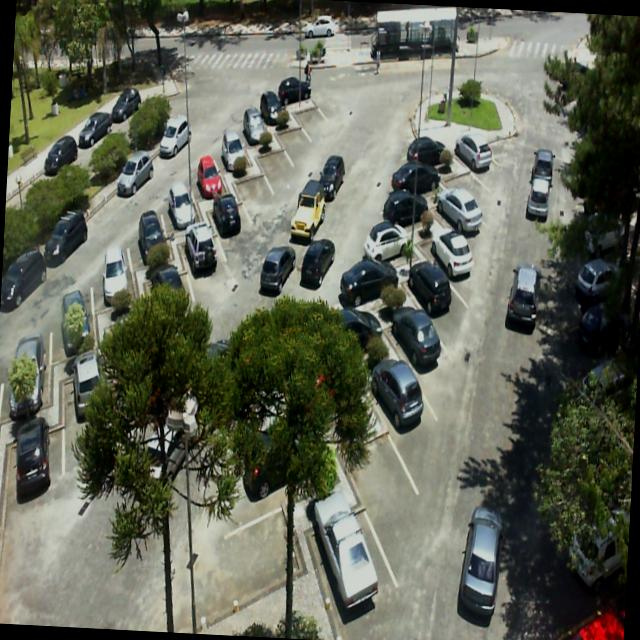bus: (368, 2, 461, 64)
car: (308, 489, 384, 610), (240, 390, 301, 504), (566, 506, 630, 594), (458, 504, 503, 620), (134, 422, 189, 504), (368, 356, 426, 431), (13, 415, 54, 504), (8, 334, 48, 422), (389, 305, 444, 368), (339, 257, 399, 310), (0, 246, 47, 312), (406, 258, 454, 316), (576, 300, 623, 356), (44, 208, 88, 264), (428, 228, 474, 281), (58, 287, 92, 358), (70, 349, 102, 424), (574, 256, 620, 308), (506, 262, 541, 330), (290, 178, 327, 240), (436, 187, 484, 234), (580, 357, 626, 406), (148, 264, 191, 316), (362, 218, 410, 264), (182, 220, 218, 276), (338, 308, 383, 352), (566, 606, 624, 640), (582, 212, 624, 258), (259, 244, 296, 296), (100, 244, 130, 308), (116, 148, 154, 198), (382, 188, 429, 228), (300, 236, 336, 288), (136, 208, 167, 266), (390, 160, 441, 195), (166, 180, 198, 230), (453, 132, 493, 172), (158, 113, 192, 159), (43, 134, 78, 178), (78, 110, 113, 150), (212, 192, 242, 238), (318, 154, 346, 202), (196, 153, 224, 199), (111, 85, 142, 124), (406, 136, 446, 166), (220, 128, 247, 172), (526, 177, 552, 222), (258, 90, 290, 126), (277, 75, 312, 107), (530, 147, 556, 185), (242, 106, 266, 146), (302, 13, 336, 40)
